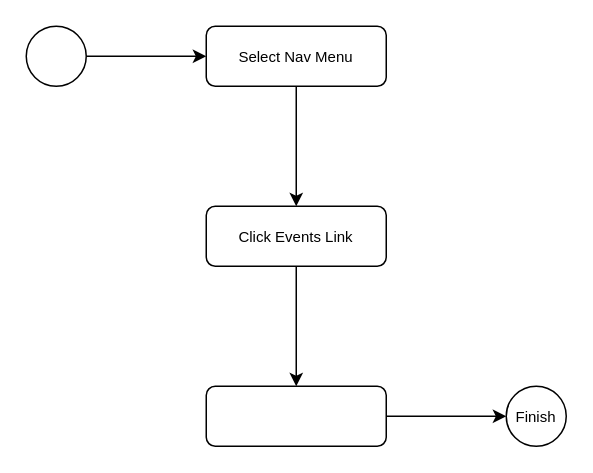
Image size: 593x473. Some labels were removed from this diagram. The shapes that lost their labels are listed below. From the top down, each one's centre as x and y in pixels, then its label:
At (x=55, y=55): "Start".
At (x=295, y=415): "Click Event Title Link".
